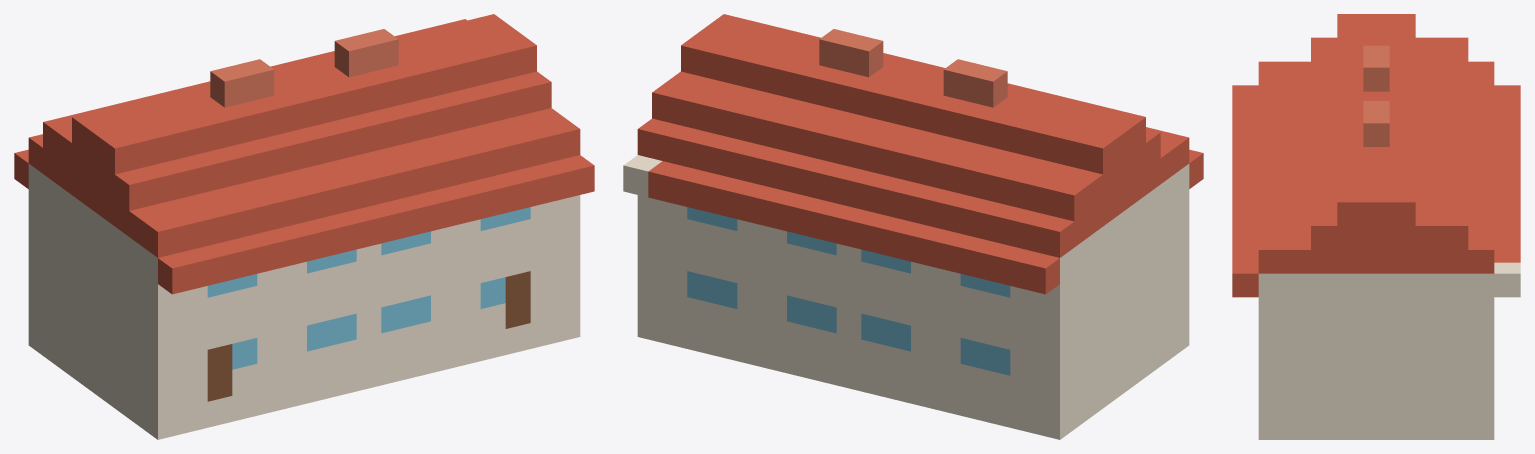
File: semi_detached.glb
3 renders of one model, left to right at view 1: azimuth 30°, elevation 25°; view 2: azimuth 150°, elevation 25°; view 3: azimuth 270°, elevation 25°, orthographic. The views are drawn at different scales.
Visible parts, largest first — view 1: semi_detached_roof_red, semi_detached_wall_cream, semi_detached_window, semi_detached_brick, semi_detached_door; view 2: semi_detached_roof_red, semi_detached_wall_cream, semi_detached_window, semi_detached_brick; view 3: semi_detached_roof_red, semi_detached_wall_cream, semi_detached_brick.
Part boxes in pixels (x1=…): semi_detached_roof_red: x1=14, y1=14, x2=594, y2=294; semi_detached_wall_cream: x1=28, y1=164, x2=580, y2=439; semi_detached_window: x1=207, y1=207, x2=530, y2=369; semi_detached_brick: x1=210, y1=29, x2=398, y2=107; semi_detached_door: x1=207, y1=271, x2=530, y2=401; semi_detached_roof_red: x1=637, y1=14, x2=1203, y2=294; semi_detached_wall_cream: x1=623, y1=155, x2=1189, y2=439; semi_detached_window: x1=687, y1=207, x2=1010, y2=375; semi_detached_brick: x1=819, y1=29, x2=1007, y2=107; semi_detached_roof_red: x1=1232, y1=14, x2=1520, y2=297; semi_detached_wall_cream: x1=1258, y1=262, x2=1520, y2=439; semi_detached_brick: x1=1363, y1=45, x2=1389, y2=146.
Size of the model in its own units: 15.83 by 10.24 by 10.24.
